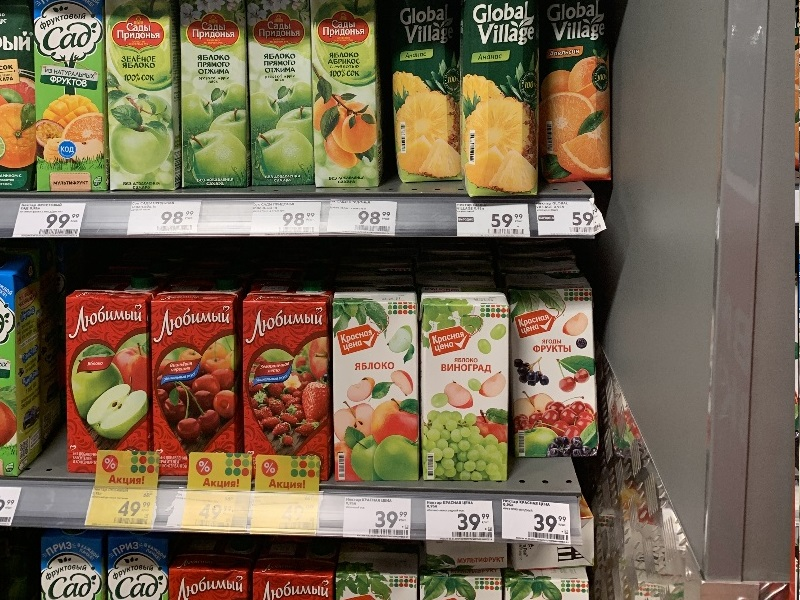juice: (234, 276, 350, 492), (55, 274, 168, 490), (322, 277, 435, 492), (412, 279, 524, 488), (144, 276, 254, 487), (496, 270, 614, 459)
